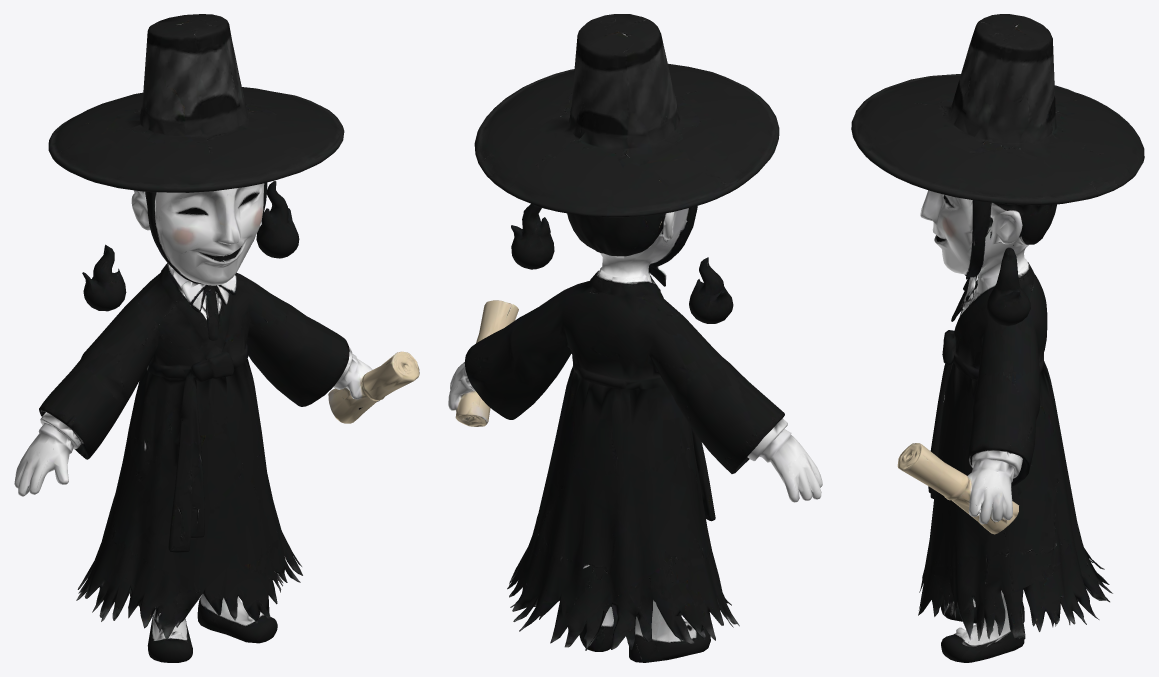
Rendered from villain-reaper-v1.glb.
3 renders of one model, left to right at view 1: azimuth 30°, elevation 25°; view 2: azimuth 150°, elevation 25°; view 3: azimuth 270°, elevation 25°, orthographic. The views are drawn at different scales.
Bounding box in the file's own units: 1.19 × 1.9 × 0.8311.
Materials: 1 (1 with a texture image).
